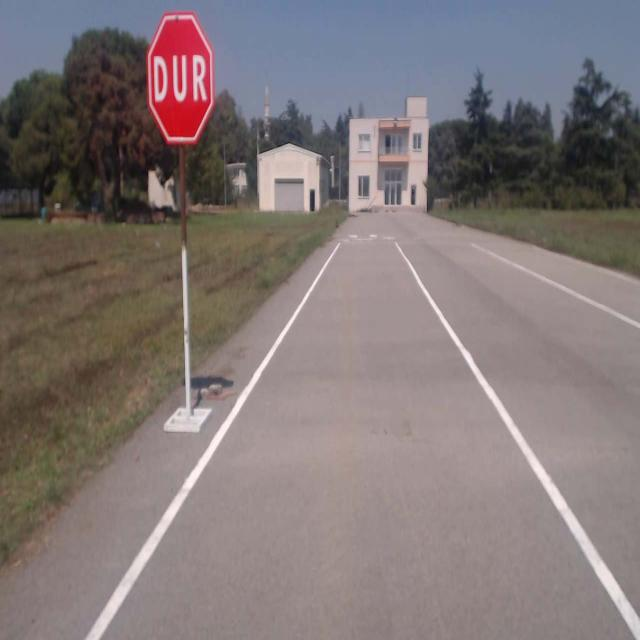dur: (147, 12, 214, 144)
